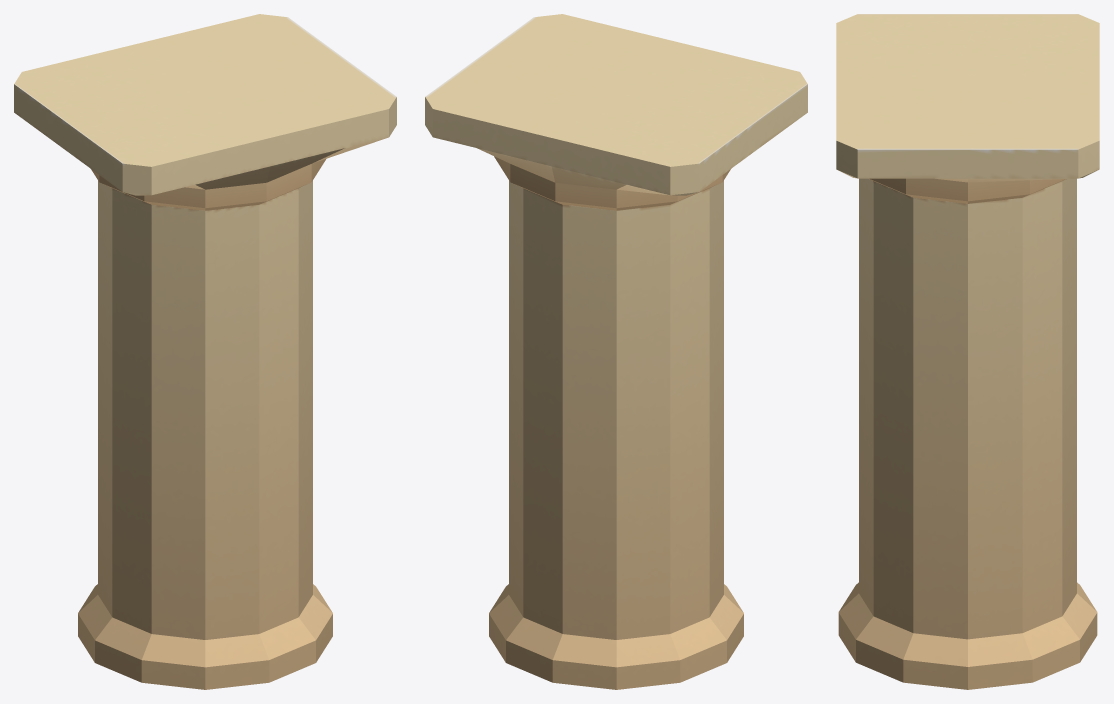
File: deco_column0.fbx
3 views of the same model, side by side, from view 1: azimuth 30°, elevation 25°; view 2: azimuth 150°, elevation 25°; view 3: azimuth 270°, elevation 25° (orthographic).
Parts seen in each view (by area): view 1: deco_column0; view 2: deco_column0; view 3: deco_column0.
Boxes of the visible parts, x1,y1,x2,y2 form: deco_column0: [14, 14, 396, 689]; deco_column0: [425, 14, 807, 689]; deco_column0: [836, 14, 1099, 689].
Size of the model in its own units: 0.3533 by 0.2896 by 0.6718.
